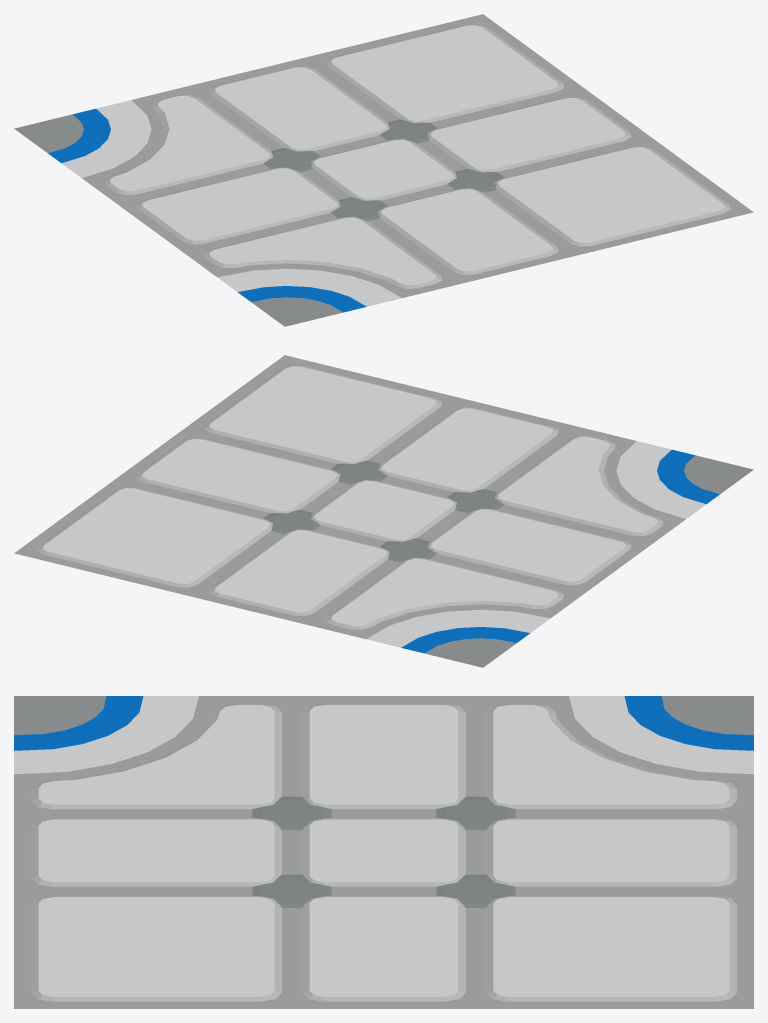
File: Floor_type_A_015.glb
The picture shows the model from 3 angles, top to bottom: view 1: azimuth 30°, elevation 25°; view 2: azimuth 150°, elevation 25°; view 3: azimuth 270°, elevation 25°; orthographic projection. The views are drawn at different scales.
Visible parts, largest first — view 1: Floor_type_A_015; view 2: Floor_type_A_015; view 3: Floor_type_A_015.
Boxes of the visible parts, x1,y1,x2,y2 form: Floor_type_A_015: [14, 14, 753, 326]; Floor_type_A_015: [14, 355, 753, 667]; Floor_type_A_015: [14, 696, 753, 1008].
Size of the model in its own units: 4 by 0.0134 by 4.
Materials: 2 (2 with a texture image).
